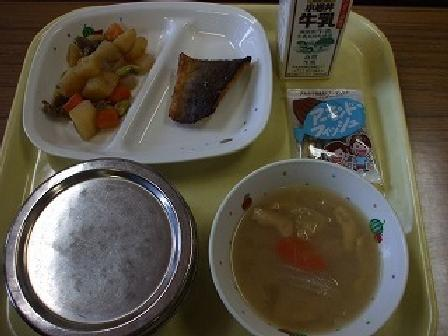Fish: (164, 40, 261, 131)
Milk: (269, 0, 353, 88)
Soups: (215, 165, 409, 333)
vegetable based cooked food: (39, 18, 159, 141)
